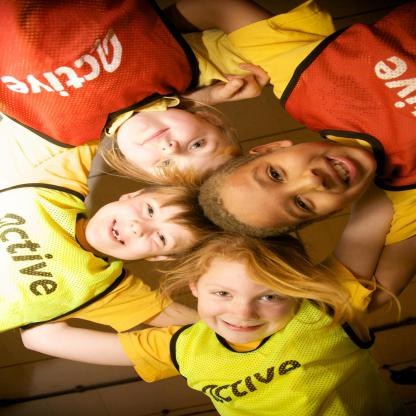face: (223, 146, 377, 230), (119, 109, 234, 186), (201, 253, 297, 345), (88, 198, 209, 260)
